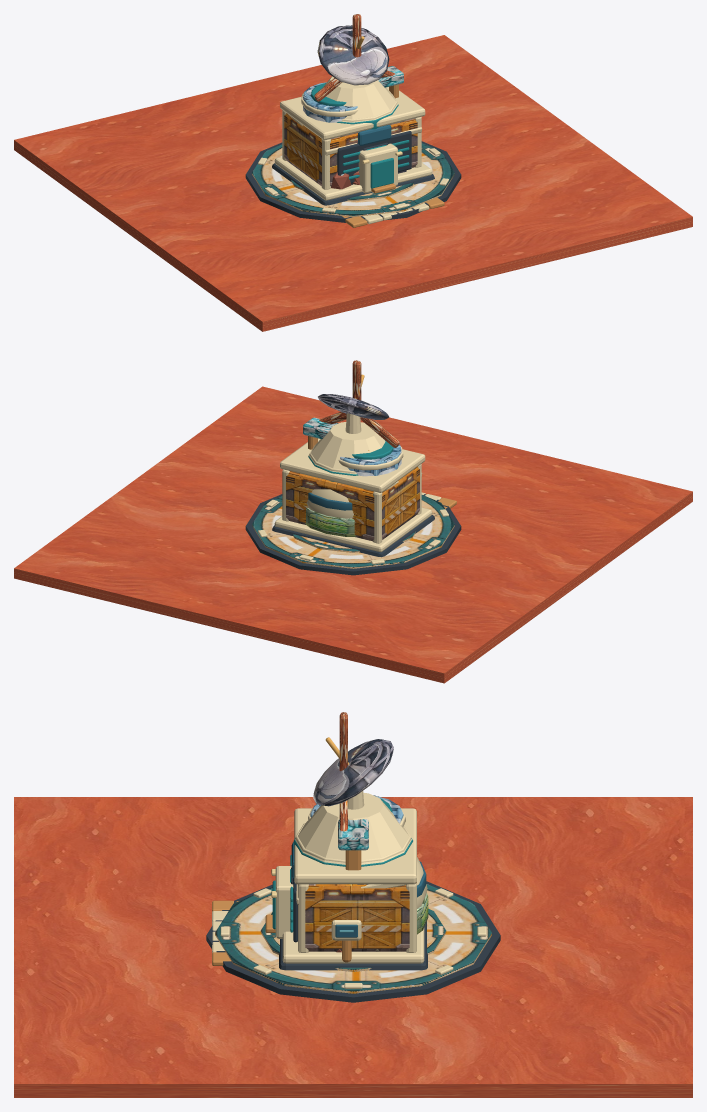
Rendered from colony-3QyJ41aZ.glb.
The picture shows the model from 3 angles, top to bottom: view 1: azimuth 30°, elevation 25°; view 2: azimuth 150°, elevation 25°; view 3: azimuth 270°, elevation 25°; orthographic projection. The views are drawn at different scales.
Visible parts, largest first — view 1: terrain_body, pad_body, depot_body_1, mast_antenna_2, lander_body, depot_body_2, air_body_0, farm_body_1, air_body_1, wind_turbine_2, garage_apron_body; view 2: terrain_body, pad_body, depot_body_1, lander_body, air_body_0, depot_body_2, air_body_1, hab_body_1, mast_antenna_2, wind_turbine_2, farm_body_1, ice_body_1; view 3: terrain_body, pad_body, depot_body_1, lander_body, depot_body_2, air_body_0, mast_antenna_2, farm_body_1, ice_body_1, arrival_pad_body, water_body_1, garage_apron_body (+1 smaller).
Boxes of the visible parts, x1,y1,x2,y2 form: terrain_body: (14,35,692,331); pad_body: (245,141,461,222); depot_body_1: (282,110,421,189); mast_antenna_2: (317,25,389,85); lander_body: (323,76,398,150); depot_body_2: (280,87,425,139); air_body_0: (272,157,434,205); farm_body_1: (358,143,397,193); air_body_1: (301,82,358,122); wind_turbine_2: (314,14,394,101); garage_apron_body: (342,197,444,227); terrain_body: (14,386,692,683); pad_body: (245,494,461,575); depot_body_1: (282,464,421,543); lander_body: (308,422,385,481); air_body_0: (272,507,434,557); depot_body_2: (280,438,425,492); air_body_1: (338,440,403,476); hab_body_1: (306,489,353,518); mast_antenna_2: (318,374,388,419); wind_turbine_2: (319,360,399,447); farm_body_1: (305,508,356,536); ice_body_1: (303,417,338,449); terrain_body: (14,797,692,1097); pad_body: (206,881,500,1002); depot_body_1: (290,855,416,952); lander_body: (291,792,412,884); depot_body_2: (294,808,416,884); air_body_0: (279,921,427,970); mast_antenna_2: (313,737,393,806); farm_body_1: (272,866,428,938); ice_body_1: (338,819,368,870); arrival_pad_body: (260,909,446,971); water_body_1: (331,920,361,962); garage_apron_body: (212,900,238,965).
Bounding box in the file's own units: 12 × 4.74 × 12.
Materials: 43 (26 with a texture image).
